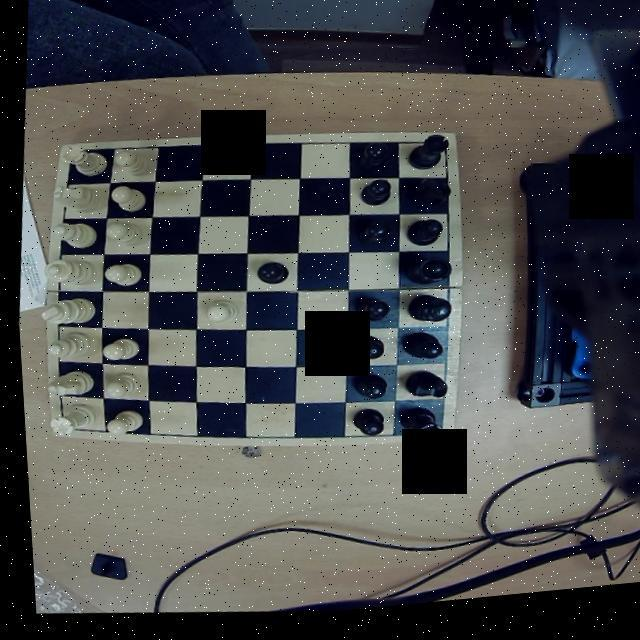chess-table-corners: (418, 424, 446, 450), (429, 142, 454, 166), (56, 143, 86, 162), (44, 413, 68, 435)
